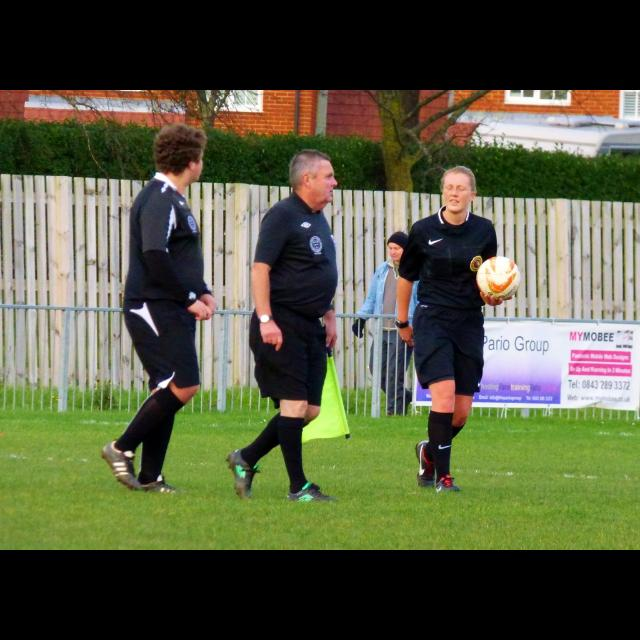Football: (472, 253, 520, 297)
